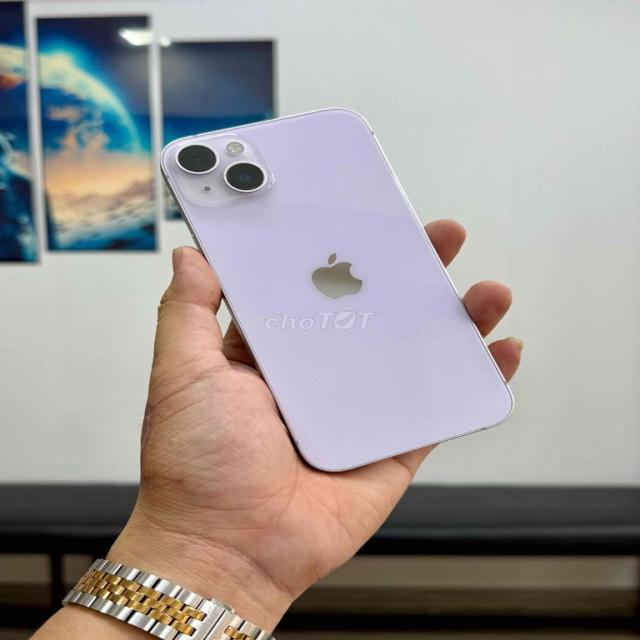gen_14: (153, 100, 524, 476)
